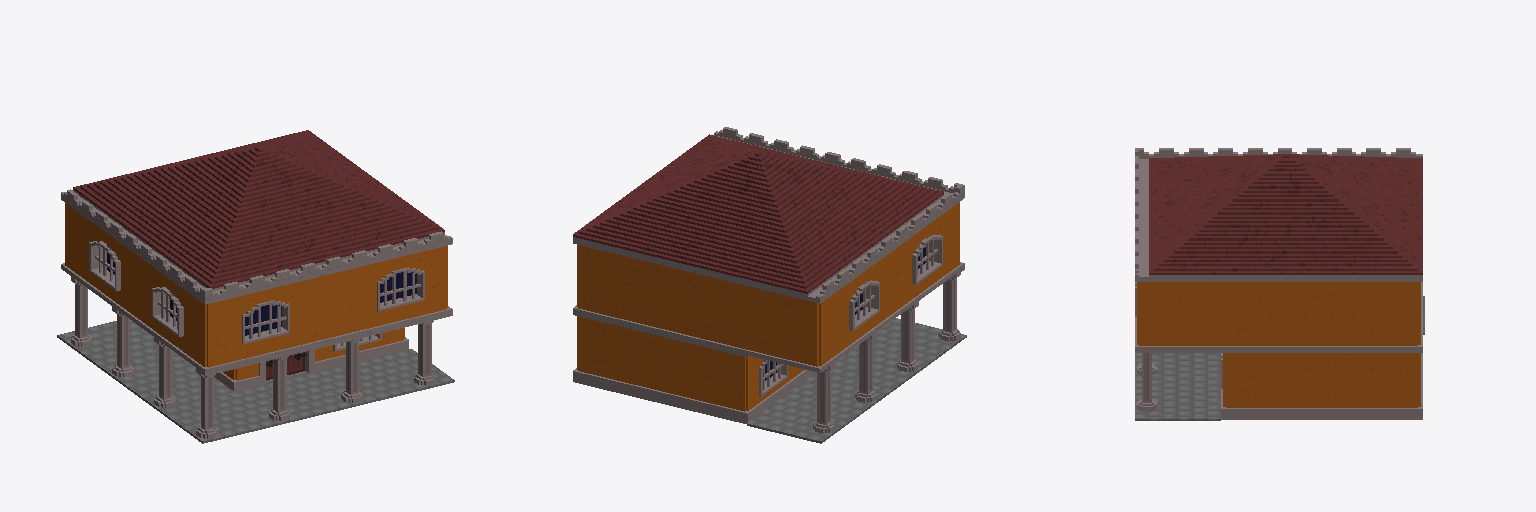
3 views of the same model, side by side, from view 1: azimuth 30°, elevation 25°; view 2: azimuth 150°, elevation 25°; view 3: azimuth 270°, elevation 25° (orthographic).
Visible parts, largest first — view 1: object 1; view 2: object 1; view 3: object 1.
Boxes of the visible parts, <box> form: object 1: <box>57,130,454,443</box>; object 1: <box>573,127,966,443</box>; object 1: <box>1135,148,1424,420</box>.
Bounding box in the file's own units: 11.8 × 9.3 × 11.8.
1 materials, 1 textured.